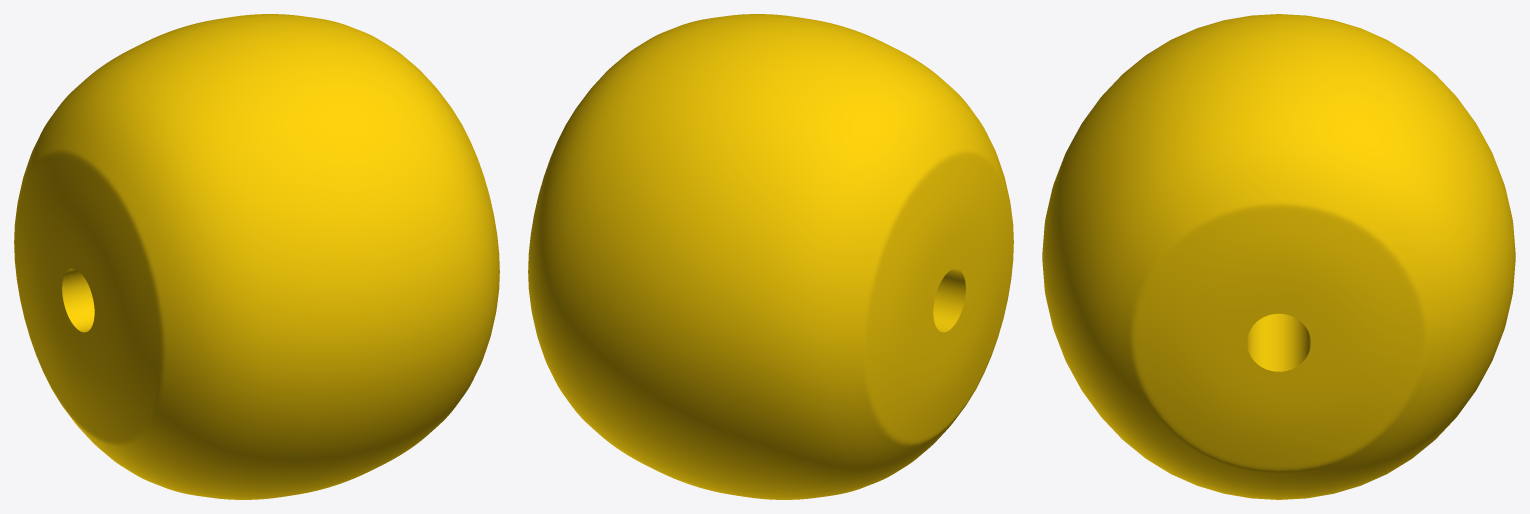
The model's file is 磨砂珠6mm.glb.
3 views of the same model, side by side, from view 1: azimuth 30°, elevation 25°; view 2: azimuth 150°, elevation 25°; view 3: azimuth 270°, elevation 25° (orthographic).
Parts seen in each view (by area): view 1: JewelCAD_2; view 2: JewelCAD_2; view 3: JewelCAD_2.
Part boxes in pixels (x1,y1,x2,y2): JewelCAD_2: (14,14,499,499); JewelCAD_2: (528,14,1013,499); JewelCAD_2: (1042,14,1515,499).
Bounding box in the file's own units: 0.006 × 0.007 × 0.007.
